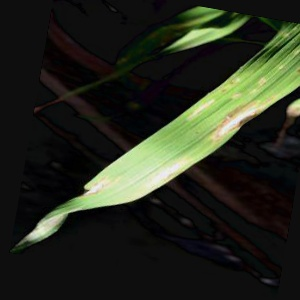Brown_Spot: (212, 90, 268, 143)
